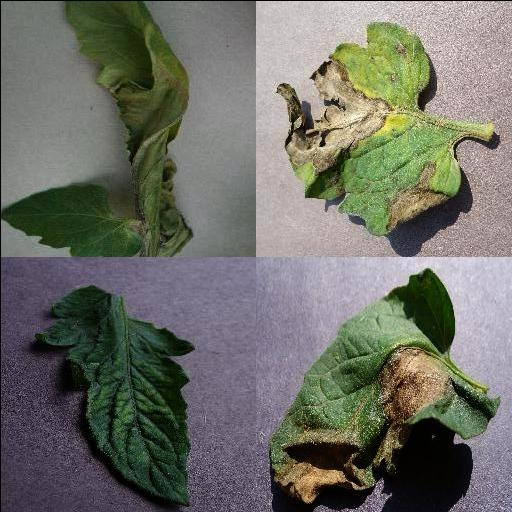Healthy: (0, 180, 141, 256)
Late Blight: (266, 267, 502, 503), (272, 19, 464, 235), (64, 0, 192, 256)
Mosaic Virus: (35, 283, 193, 507)
